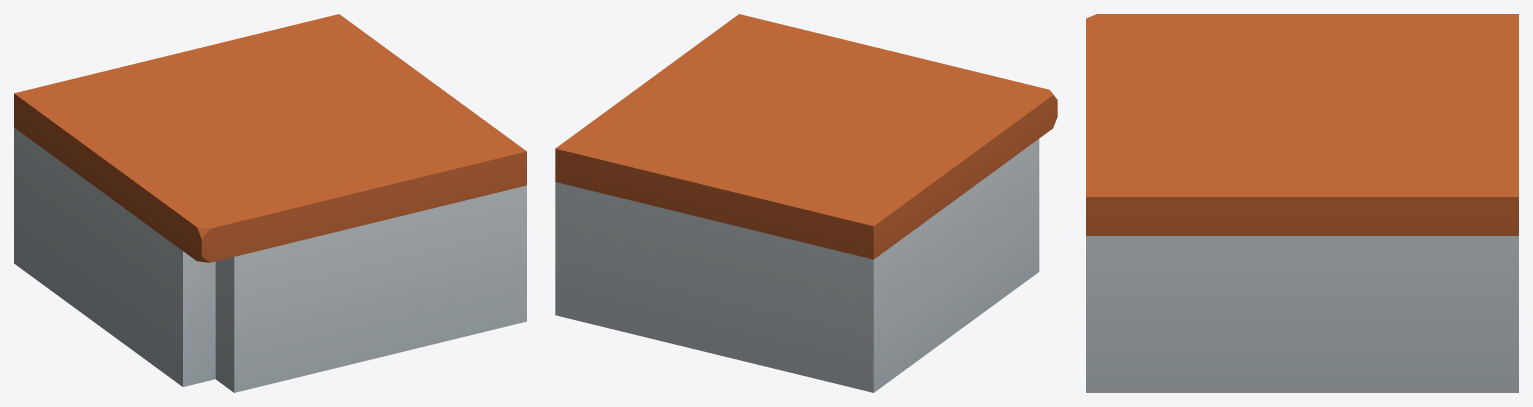
The model's file is kay-kitchencounter_innercorner.glb.
The picture shows the model from 3 angles, left to right: view 1: azimuth 30°, elevation 25°; view 2: azimuth 150°, elevation 25°; view 3: azimuth 270°, elevation 25°; orthographic projection. The views are drawn at different scales.
Visible parts, largest first — view 1: kitchencounter_innercorner; view 2: kitchencounter_innercorner; view 3: kitchencounter_innercorner.
Part boxes in pixels (x1=…): kitchencounter_innercorner: x1=14, y1=14, x2=526, y2=392; kitchencounter_innercorner: x1=555, y1=14, x2=1057, y2=392; kitchencounter_innercorner: x1=1086, y1=14, x2=1518, y2=392.
Bounding box in the file's own units: 1.2 × 0.6 × 1.2.
1 material, 1 textured.
